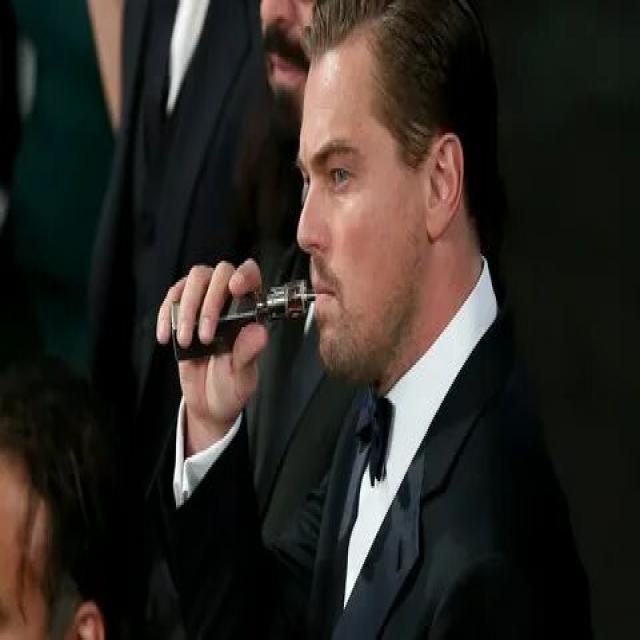cigarette: (170, 280, 318, 374)
